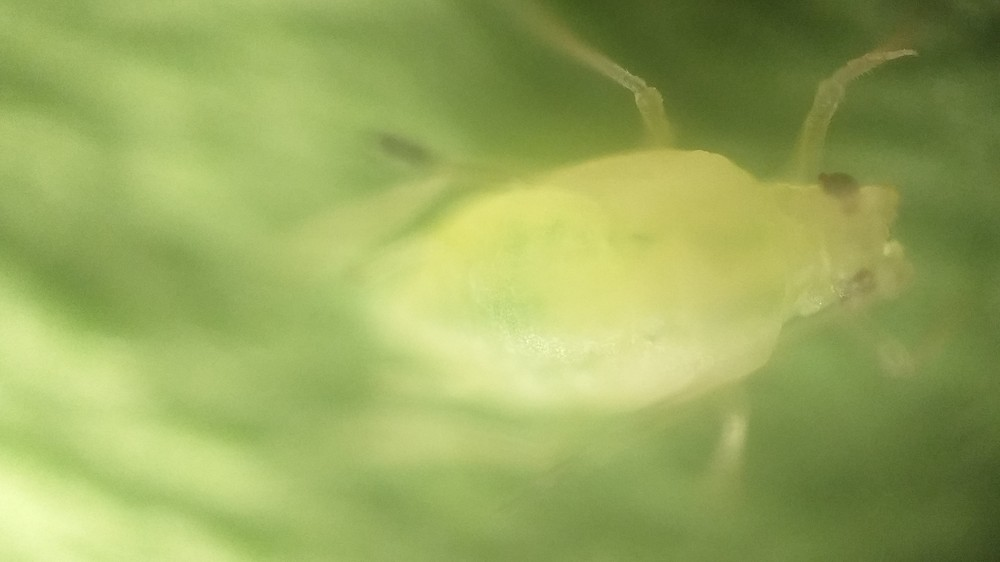Pulgon: (290, 35, 989, 529)
